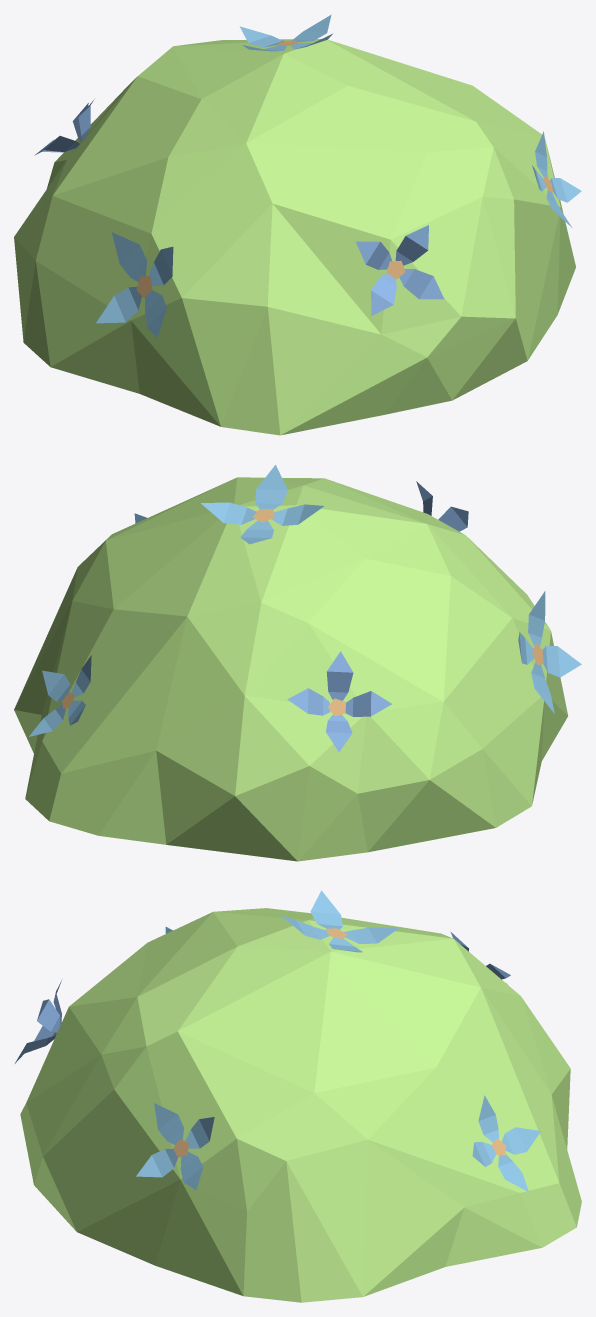
Rendered from FlowerBush_b_l_01.fbx.
The picture shows the model from 3 angles, top to bottom: view 1: azimuth 30°, elevation 25°; view 2: azimuth 150°, elevation 25°; view 3: azimuth 270°, elevation 25°; orthographic projection. The views are drawn at different scales.
Parts seen in each view (by area): view 1: FlowerBush_b_l_01; view 2: FlowerBush_b_l_01; view 3: FlowerBush_b_l_01.
Boxes of the visible parts, bbox=[...] form: FlowerBush_b_l_01: bbox=[14, 14, 581, 435]; FlowerBush_b_l_01: bbox=[14, 464, 581, 861]; FlowerBush_b_l_01: bbox=[14, 890, 581, 1302].
Size of the model in its own units: 317 by 164 by 309.
